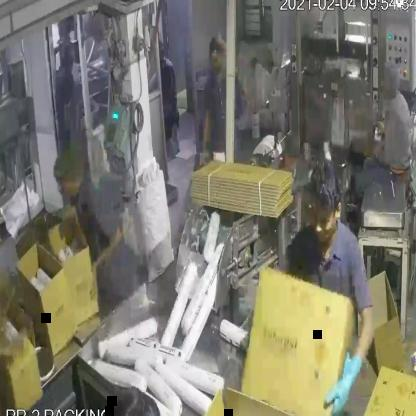glove: (319, 333, 367, 416)
no_glove: (80, 236, 129, 284), (0, 323, 35, 374), (193, 99, 209, 182)
